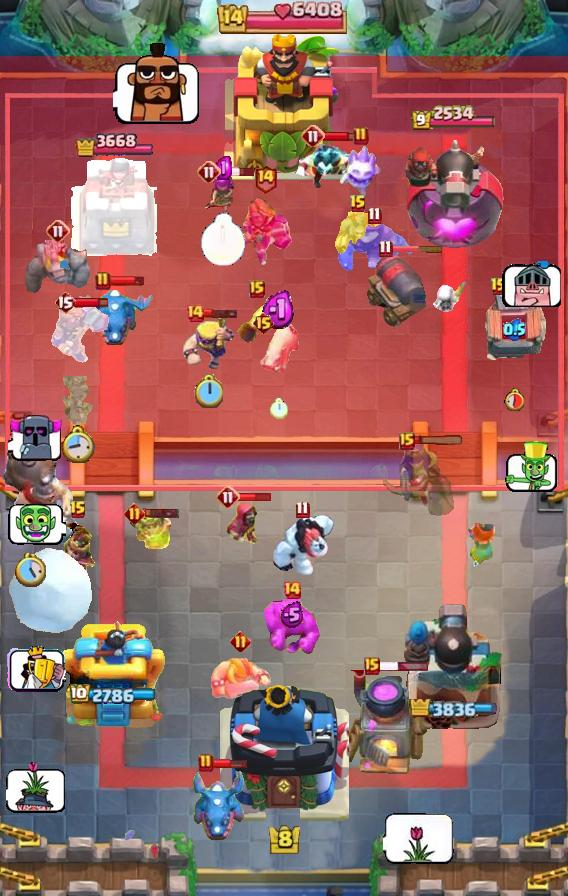arrows: (180, 309, 235, 370)
barbarian-hut: (377, 440, 459, 516)
bomber: (235, 297, 279, 343)
bomber-evolution: (59, 520, 98, 582), (123, 509, 171, 553)
bowler: (225, 499, 261, 547)
cannon: (202, 174, 244, 220)
clock: (217, 0, 351, 34)
electro-spirit: (261, 290, 297, 330), (280, 601, 304, 629), (503, 319, 526, 342), (215, 156, 233, 180)
elixir: (200, 213, 246, 267), (61, 425, 95, 463), (15, 553, 45, 587), (193, 374, 222, 408), (504, 389, 524, 412), (270, 397, 288, 419)
elixir-golem-mid: (479, 283, 549, 369)
emote: (413, 434, 465, 445), (377, 661, 429, 672), (390, 244, 444, 253), (75, 296, 110, 309), (219, 166, 256, 178), (143, 507, 180, 519), (109, 275, 145, 287), (203, 307, 239, 319), (323, 130, 358, 142), (238, 491, 273, 503), (212, 759, 248, 770)
fireball: (335, 213, 413, 273)
fisherman: (59, 376, 97, 424)
giant: (257, 320, 301, 376)
goblin-giant: (209, 653, 271, 701)
graveyard: (79, 284, 157, 348), (189, 768, 247, 842)
heal-spirit: (431, 279, 468, 317)
hog-rider: (462, 518, 500, 570)
hunter: (339, 670, 429, 778)
king-tower: (219, 678, 349, 826), (222, 31, 346, 181)
lumberjack: (291, 136, 365, 194)
mirror: (339, 143, 383, 197)
queen-tower: (60, 617, 168, 731), (71, 156, 157, 256)
rage: (269, 513, 335, 577)
royal-delivery: (332, 208, 384, 254)
royal-giant-evolution: (365, 254, 433, 328)
selected: (75, 130, 153, 161), (410, 104, 496, 131), (70, 684, 158, 706), (410, 699, 499, 718)
skeleton: (114, 42, 202, 126), (383, 812, 455, 864), (5, 760, 66, 814), (503, 441, 559, 495), (8, 412, 64, 462), (501, 261, 561, 307), (6, 647, 66, 693), (6, 501, 65, 546)
tesla-evolution: (236, 194, 294, 268), (49, 301, 111, 365)
text: (254, 163, 279, 194), (301, 124, 325, 148), (197, 160, 221, 184), (46, 219, 70, 243), (216, 485, 240, 509), (253, 311, 276, 335), (54, 290, 76, 314), (229, 631, 250, 653), (123, 504, 144, 525), (185, 303, 205, 323), (282, 580, 302, 600), (349, 194, 367, 214), (490, 277, 508, 297), (69, 500, 87, 520), (353, 126, 369, 146), (95, 271, 111, 291), (198, 753, 214, 773), (249, 280, 265, 298), (399, 432, 415, 450), (364, 657, 380, 675), (367, 206, 382, 225), (378, 239, 393, 258), (295, 500, 309, 519)
tornado: (264, 596, 320, 656)
tower-bar: (401, 132, 508, 256), (403, 601, 503, 731)
valkyrie-evolution: (25, 240, 91, 300)
wall-breaker: (7, 546, 93, 633)
wizard: (0, 439, 88, 547)
